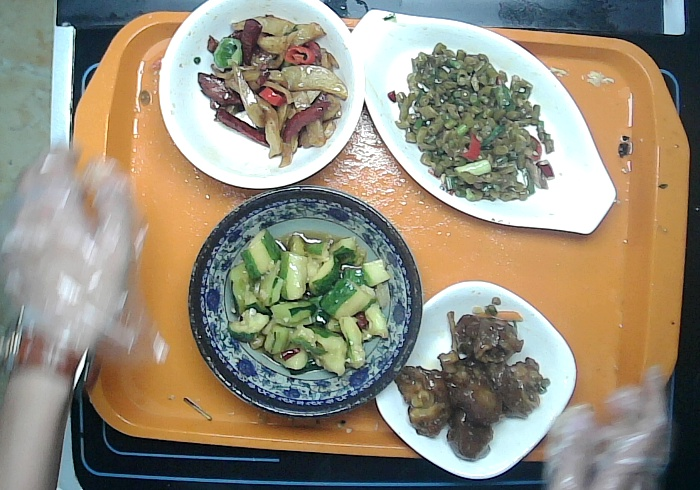ZNLD-Qing_Hua_Wan: (185, 182, 424, 419)
ZNLD-Si_Fang_Wan: (373, 279, 579, 480)
ZNLD-Tang_Wan: (156, 1, 367, 191)
ZNLD-Yu_Pan: (348, 6, 618, 236)
